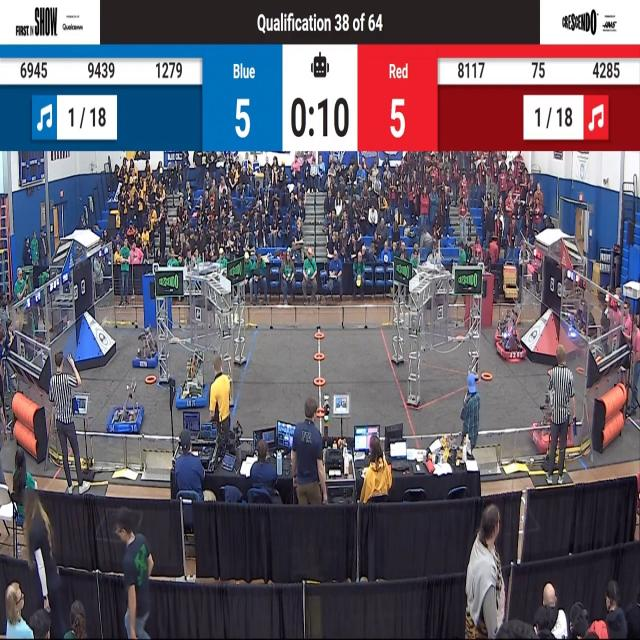Robot: (530, 362, 575, 457), (108, 375, 146, 436), (175, 348, 208, 412), (492, 309, 526, 367), (494, 292, 523, 346), (134, 324, 160, 372)
